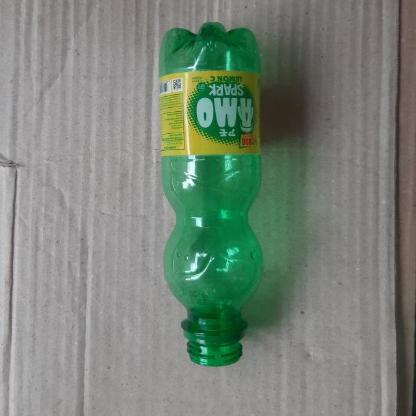Plastic Bottle: (130, 9, 322, 361)
